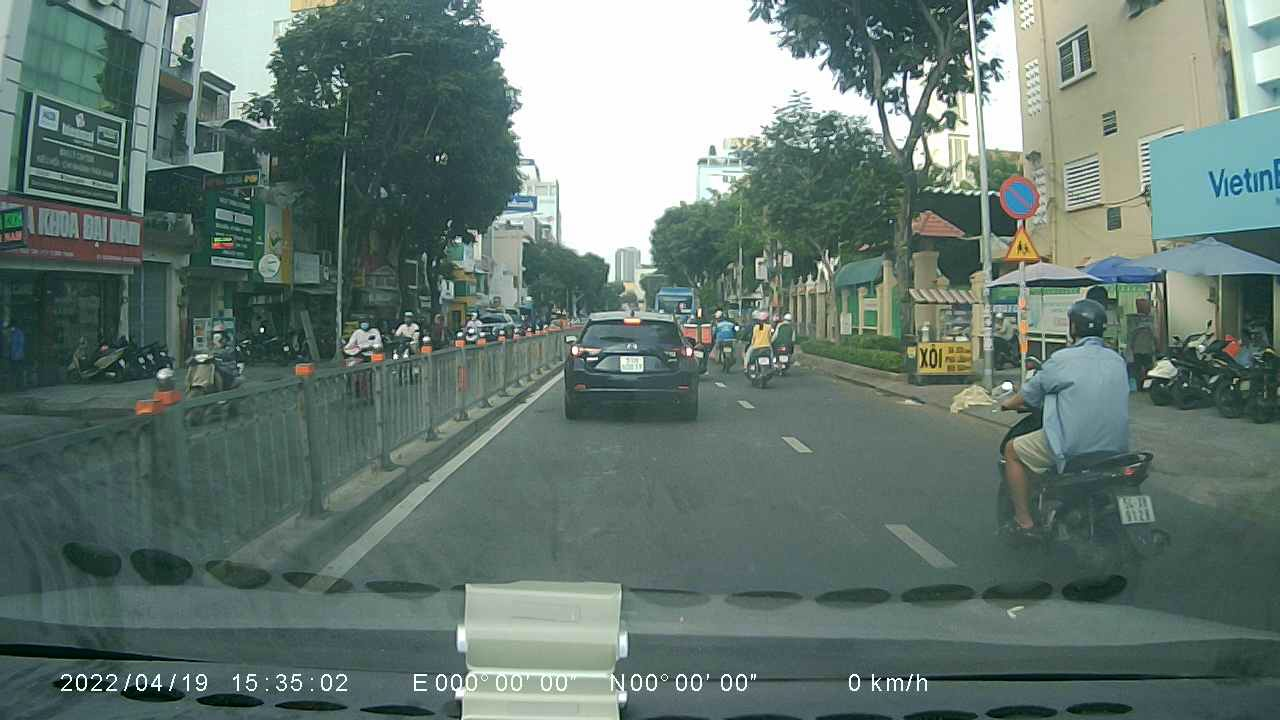Cam do xe: (998, 173, 1043, 220)
